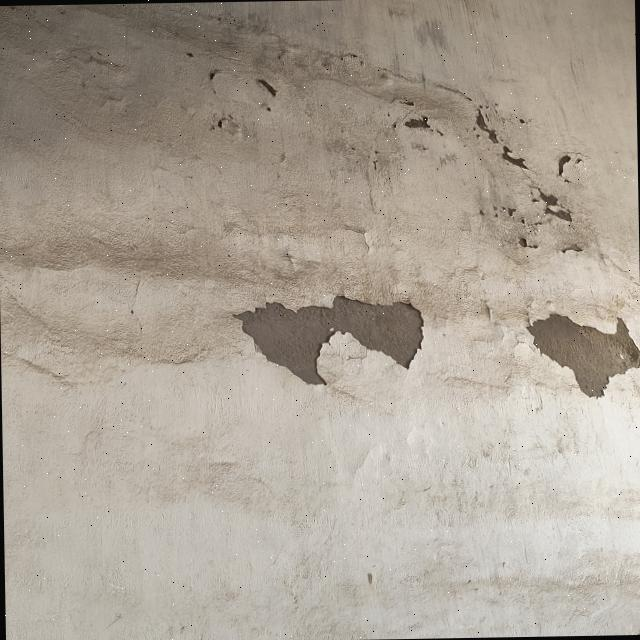Paint Peeling: (235, 296, 423, 384), (526, 313, 640, 396), (532, 189, 570, 221), (476, 111, 498, 143), (502, 146, 526, 168), (257, 78, 276, 96), (404, 116, 429, 128), (558, 154, 570, 175)
